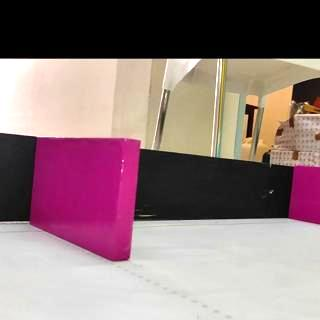xparking: (39, 138, 138, 262), (293, 167, 320, 226)
